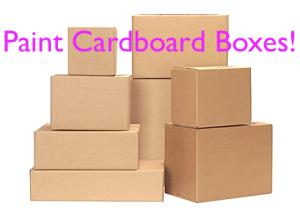cardboard: (158, 116, 274, 204), (119, 8, 257, 78), (21, 157, 172, 207), (166, 60, 270, 128), (20, 119, 147, 174), (43, 70, 140, 133), (47, 21, 125, 74)
